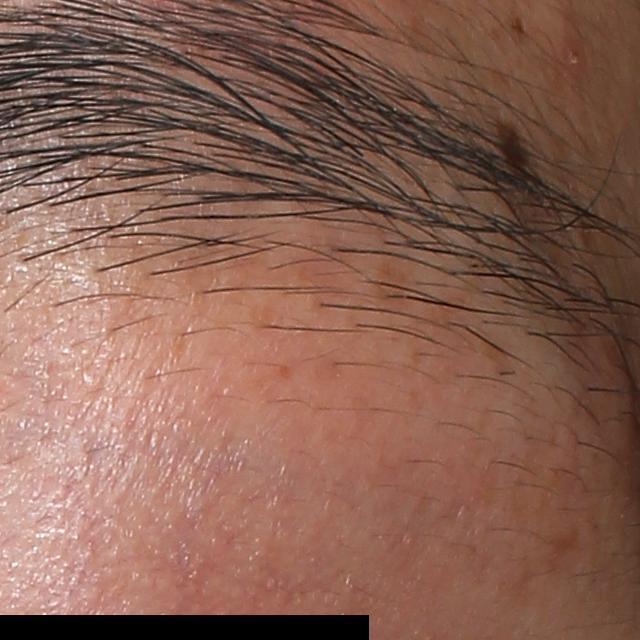nevus: (494, 119, 528, 183)
papule: (556, 27, 585, 79)
